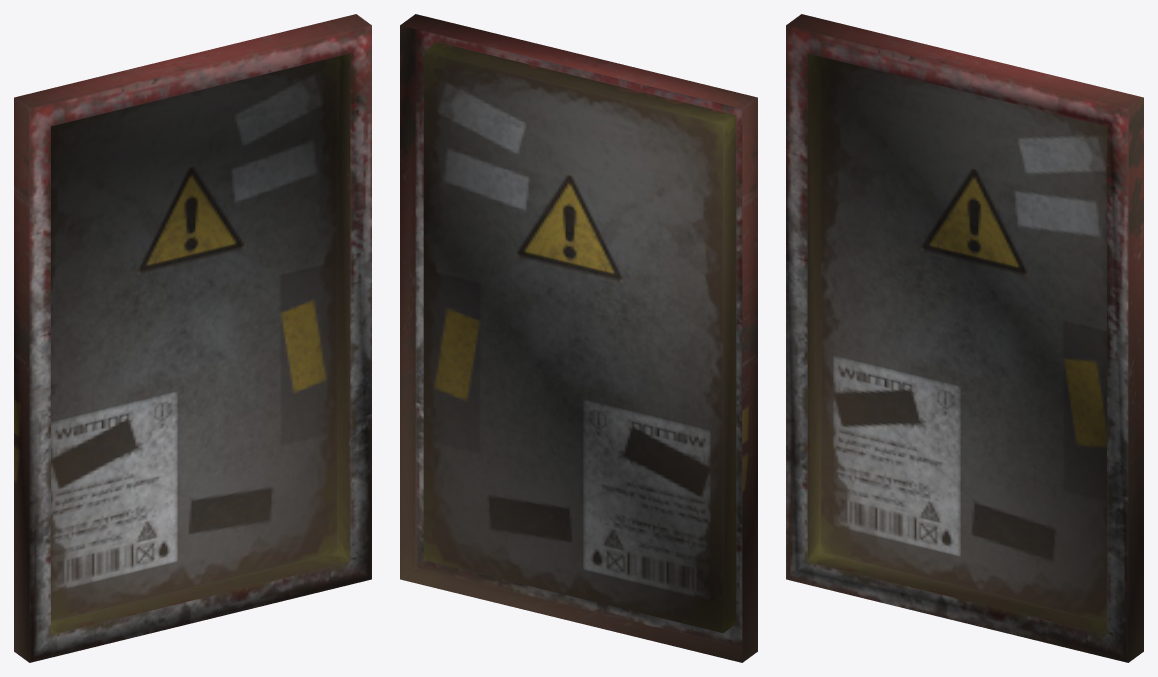
Rendered from electric2.fbx.
The picture shows the model from 3 angles, left to right: view 1: azimuth 30°, elevation 25°; view 2: azimuth 150°, elevation 25°; view 3: azimuth 330°, elevation 25°; orthographic projection.
Parts seen in each view (by area): view 1: electric_wall_box_01.001; view 2: electric_wall_box_01.001; view 3: electric_wall_box_01.001.
Boxes of the visible parts, x1,y1,x2,y2 form: electric_wall_box_01.001: (14, 14, 371, 662); electric_wall_box_01.001: (400, 14, 757, 662); electric_wall_box_01.001: (786, 14, 1143, 662).
Bounding box in the file's own units: 35.66 × 55.15 × 2.8.
